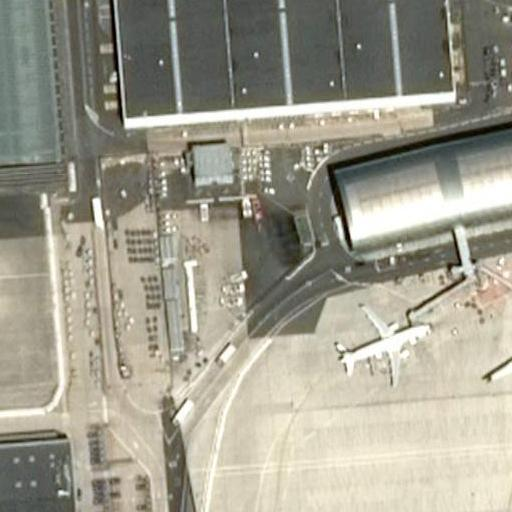Aircraft: (329, 304, 431, 384), (481, 278, 512, 430)
